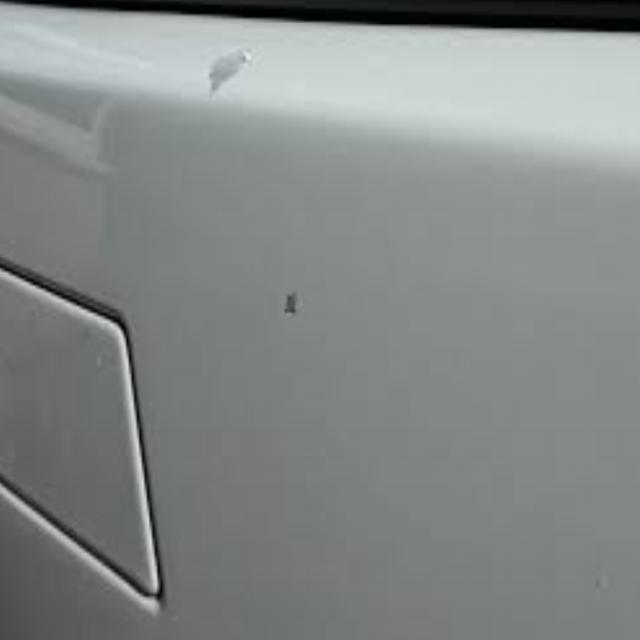dents: (202, 42, 264, 109)
